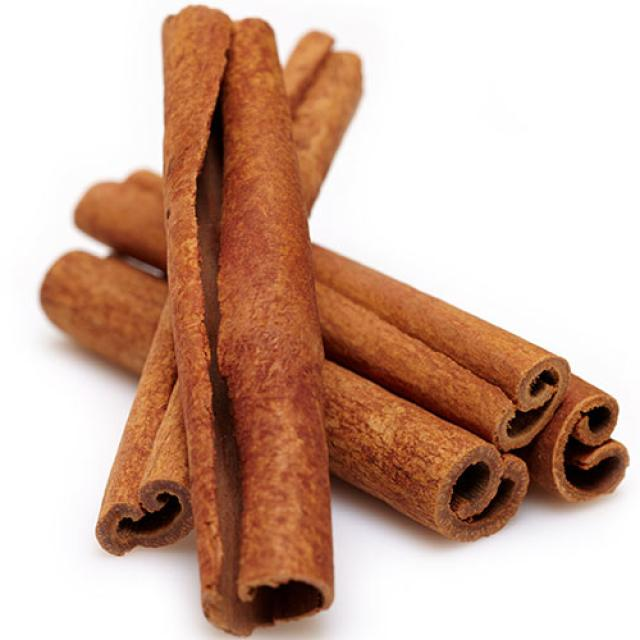Cinnamon: (162, 6, 332, 635), (218, 19, 334, 619), (313, 246, 568, 451), (324, 360, 529, 541), (41, 251, 168, 372), (525, 375, 629, 501), (292, 52, 361, 209)
